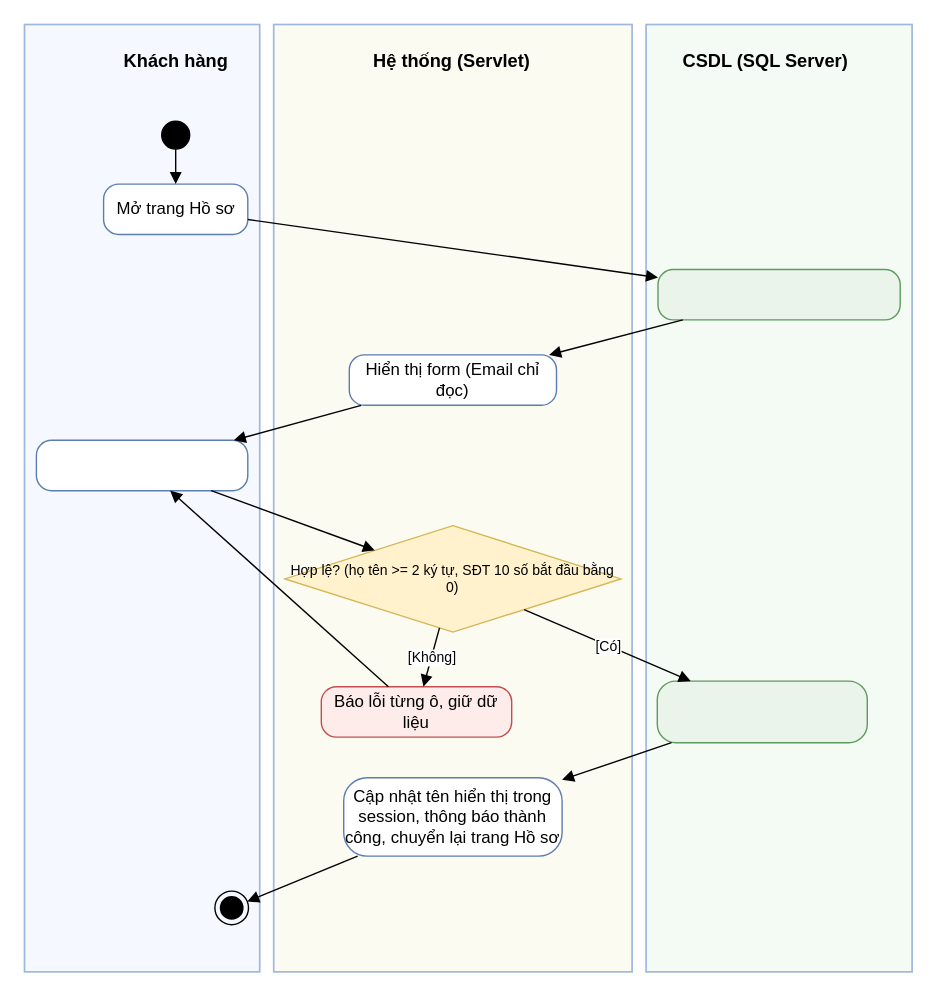
Some shapes in this 938 by 997 pixel diagram are drawn without their labels. The shapes that lost their labels are listed below. From the top down, each one's centre as x and y in pixels, then its label:
At (x=778, y=294): "SELECT NguoiDung theo MaNguoiDung trong session".
At (x=141, y=465): "Sửa họ tên, SĐT, địa chỉ mặc định; bấm Lưu".
At (x=761, y=711): "UPDATE NguoiDung SET HoTen, SoDienThoai, DiaChi, NgayCapNhat".
